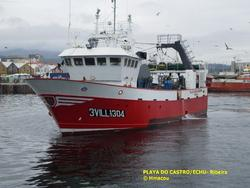bird: (223, 42, 236, 54)
otherboat: (22, 1, 209, 138)
